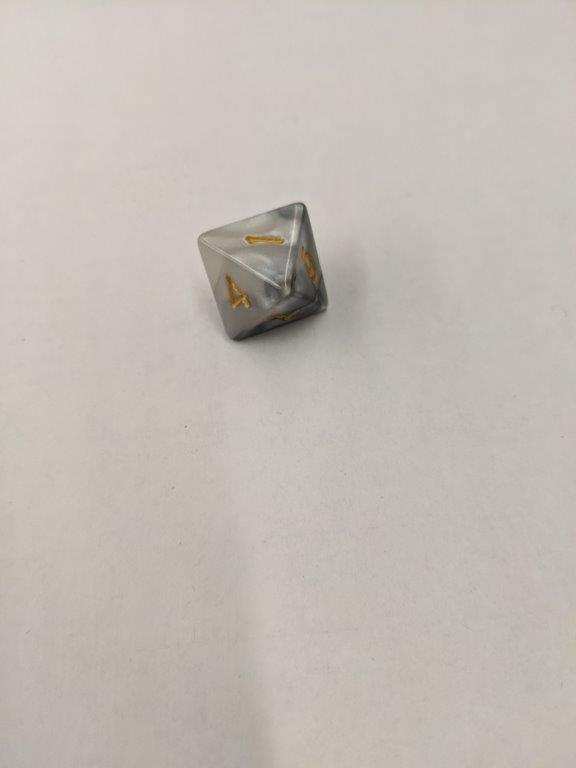d8-1: (198, 199, 333, 342)
